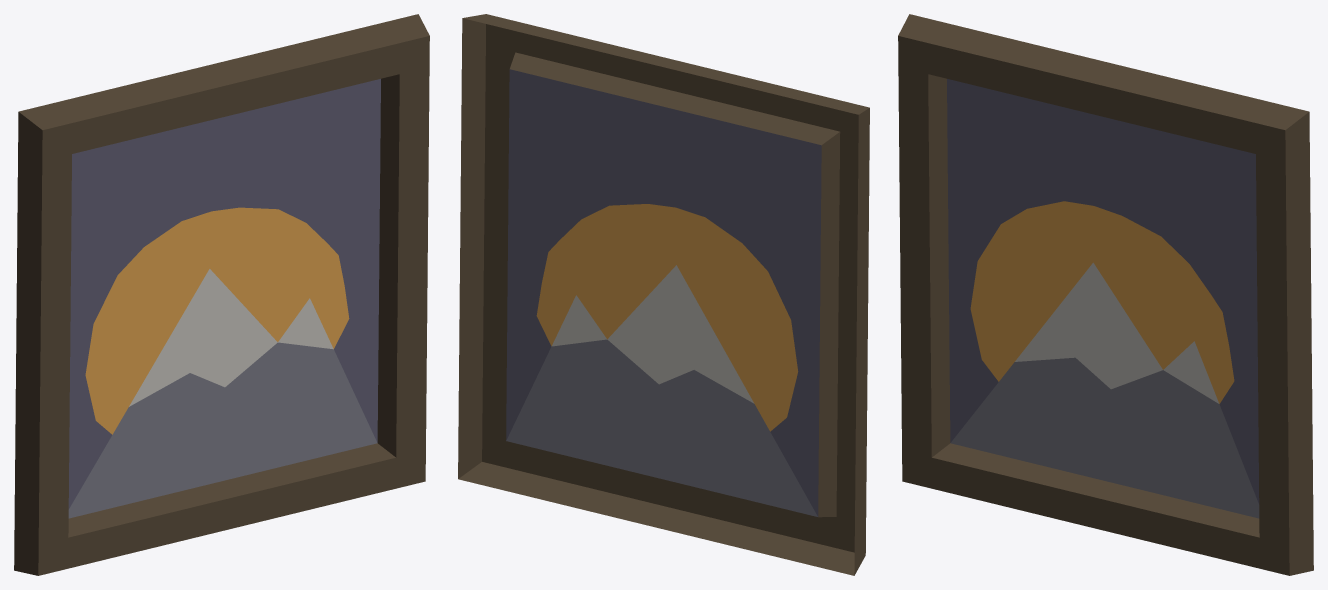
Rendered from P_Painting_03_LD.fbx.
3 views of the same model, side by side, from view 1: azimuth 30°, elevation 25°; view 2: azimuth 150°, elevation 25°; view 3: azimuth 330°, elevation 25° (orthographic).
Parts seen in each view (by area): view 1: P_Painting_03; view 2: P_Painting_03; view 3: P_Painting_03.
Boxes of the visible parts, <box> form: P_Painting_03: <box>14,14,429,575</box>; P_Painting_03: <box>458,14,869,575</box>; P_Painting_03: <box>898,14,1313,575</box>.
Size of the model in its own units: 60.12 by 66.36 by 5.75.
Materials: 1 (1 with a texture image).
